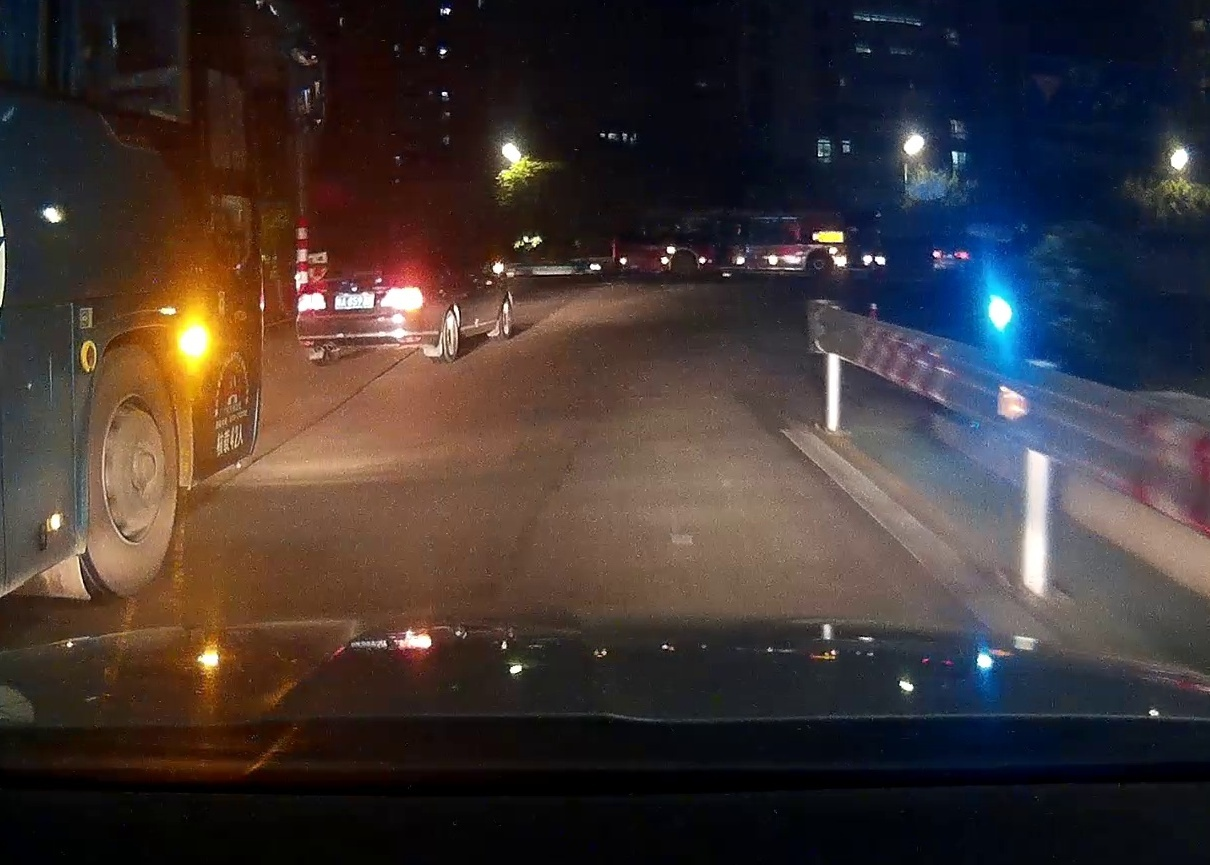L_light: (297, 293, 326, 312)
R_light: (380, 287, 424, 310)
T_light: (351, 268, 382, 277)
night-right: (295, 242, 426, 366)
